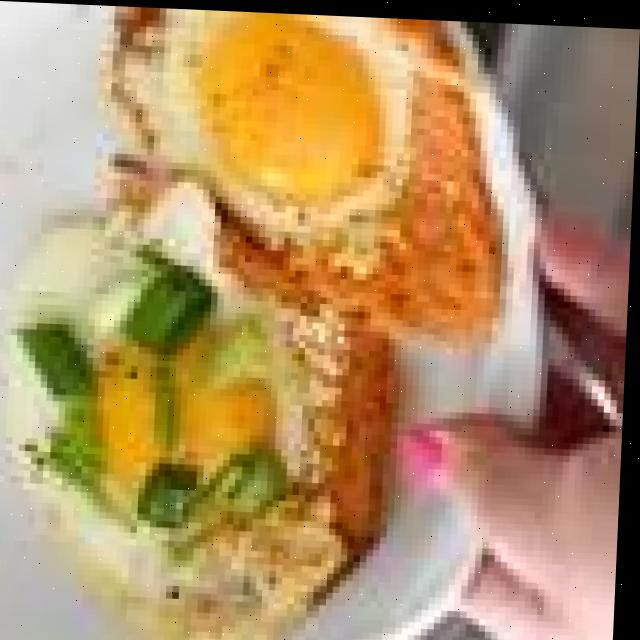Egg: (107, 6, 380, 199)
